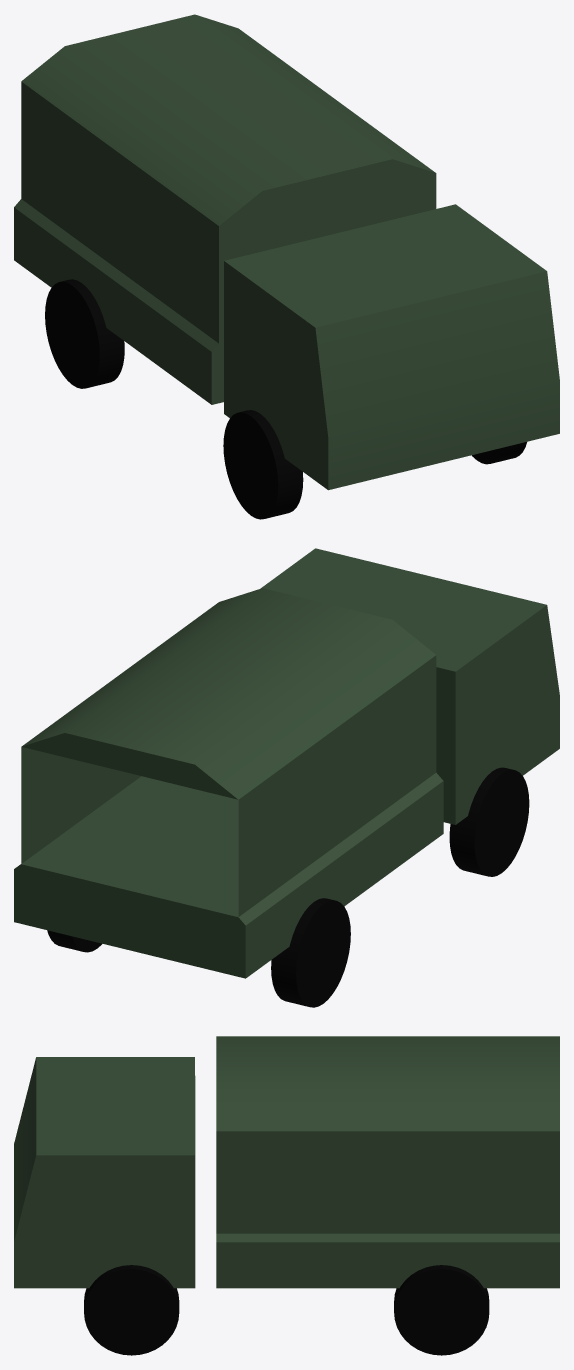
File: sobakoVozka.fbx
3 renders of one model, top to bottom at view 1: azimuth 30°, elevation 25°; view 2: azimuth 150°, elevation 25°; view 3: azimuth 270°, elevation 25°, orthographic. The views are drawn at different scales.
Parts seen in each view (by area): view 1: Объект_Цилиндр_4; view 2: Объект_Цилиндр_4; view 3: Объект_Цилиндр_4.
Part boxes in pixels (<box>): Объект_Цилиндр_4: <box>14,14,559,519</box>; Объект_Цилиндр_4: <box>14,548,559,1007</box>; Объект_Цилиндр_4: <box>14,1036,559,1355</box>.
Bounding box in the file's own units: 147 × 153 × 318.
